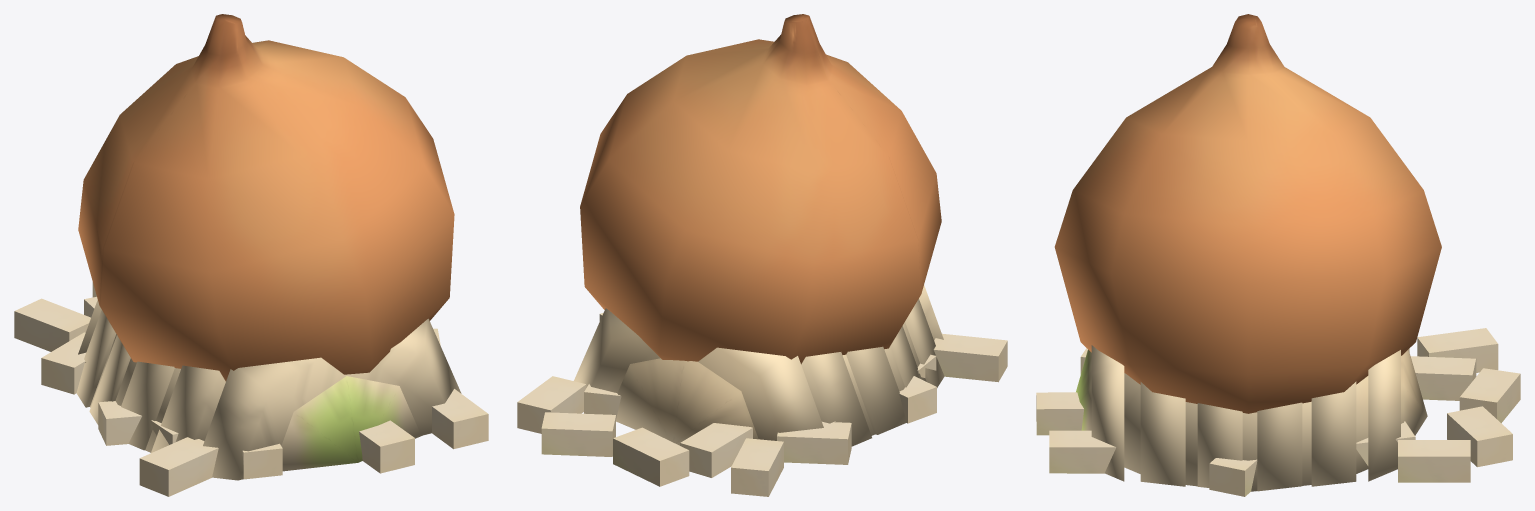
File: onion.fbx
3 renders of one model, left to right at view 1: azimuth 30°, elevation 25°; view 2: azimuth 150°, elevation 25°; view 3: azimuth 270°, elevation 25°, orthographic. The views are drawn at different scales.
Visible parts, largest first — view 1: onion_1, onion_3, onion_4, onion_2; view 2: onion_1, onion_4, onion_3, onion_2; view 3: onion_1, onion_3, onion_4, onion_2.
Part boxes in pixels (x1=…): onion_1: x1=78, y1=14, x2=454, y2=381; onion_3: x1=76, y1=300, x2=461, y2=480; onion_4: x1=14, y1=282, x2=488, y2=496; onion_2: x1=90, y1=334, x2=421, y2=471; onion_1: x1=580, y1=14, x2=941, y2=364; onion_4: x1=517, y1=313, x2=1007, y2=496; onion_3: x1=574, y1=285, x2=944, y2=446; onion_2: x1=616, y1=322, x2=926, y2=445; onion_1: x1=1054, y1=14, x2=1441, y2=413; onion_3: x1=1091, y1=345, x2=1400, y2=491; onion_4: x1=1036, y1=328, x2=1520, y2=496; onion_2: x1=1076, y1=349, x2=1427, y2=491.
Size of the model in its own units: 0.0594 by 0.0619 by 0.0715.
